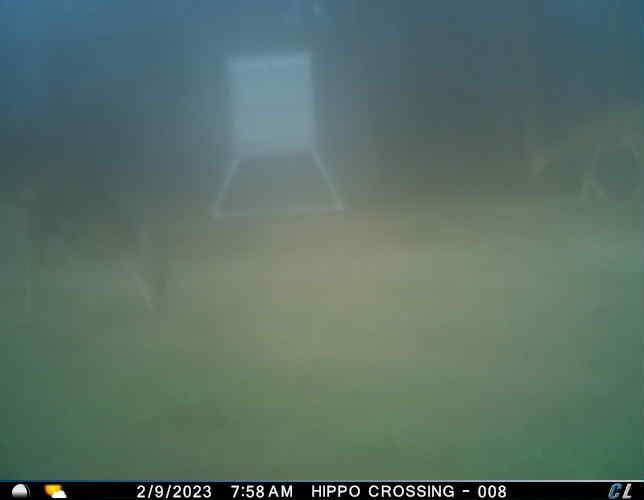Deer: (0, 125, 173, 329), (514, 92, 639, 208)
